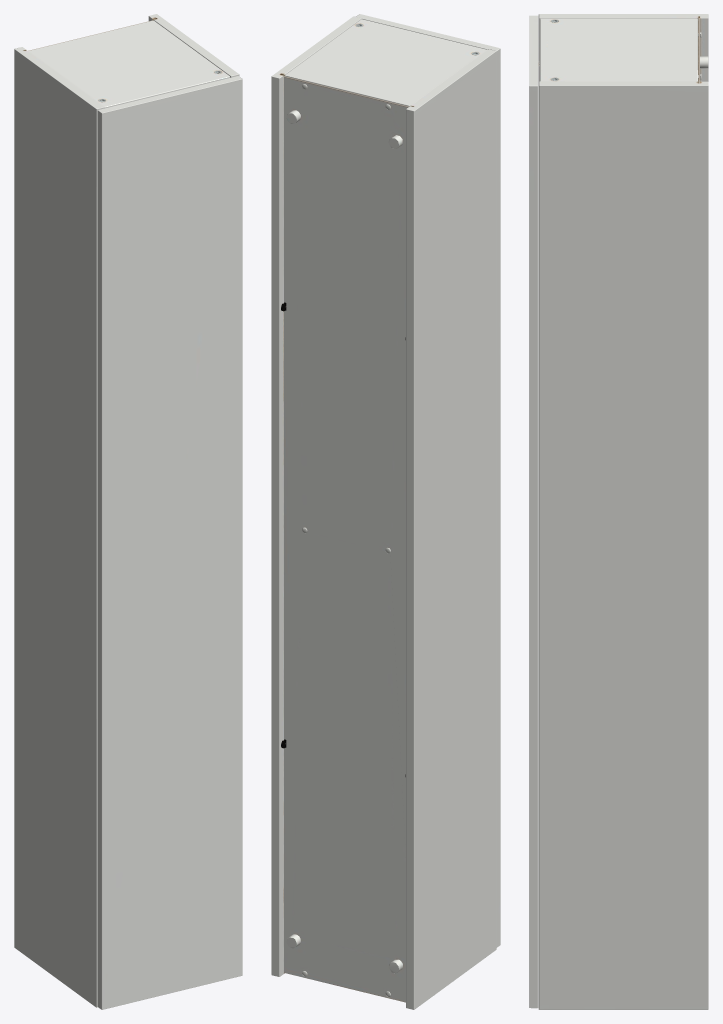
File: enhet_szafka_wysoka_drzwi_10623036.glb
3 renders of one model, left to right at view 1: azimuth 30°, elevation 25°; view 2: azimuth 150°, elevation 25°; view 3: azimuth 270°, elevation 25°, orthographic. The views are drawn at different scales.
Visible parts, largest first — view 1: enhet_szafka_wysoka_drzwi_10623036; view 2: enhet_szafka_wysoka_drzwi_10623036; view 3: enhet_szafka_wysoka_drzwi_10623036.
Part boxes in pixels (x1=…): enhet_szafka_wysoka_drzwi_10623036: x1=14, y1=14, x2=242, y2=1009; enhet_szafka_wysoka_drzwi_10623036: x1=271, y1=14, x2=500, y2=1009; enhet_szafka_wysoka_drzwi_10623036: x1=529, y1=14, x2=708, y2=1009.
Size of the model in its own units: 0.3 by 1.8 by 0.3169.
1 material, 1 textured.
